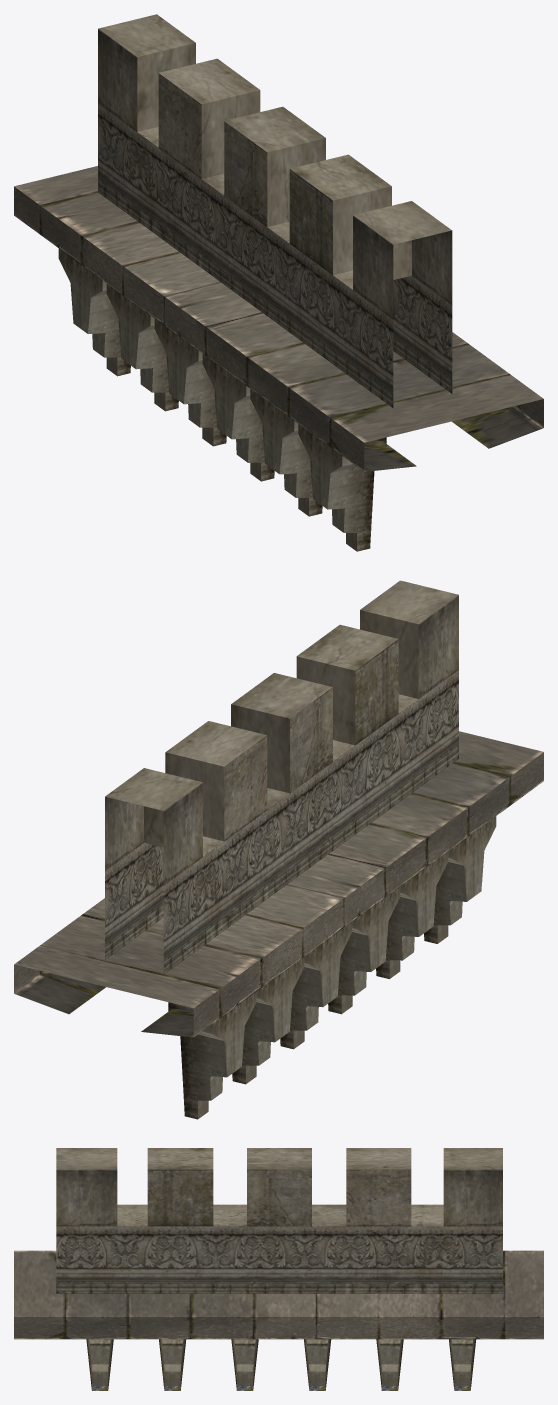
Rendered from SM_EN_2005_qiang0103.FBX.
3 renders of one model, top to bottom at view 1: azimuth 30°, elevation 25°; view 2: azimuth 150°, elevation 25°; view 3: azimuth 270°, elevation 25°, orthographic. The views are drawn at different scales.
Visible parts, largest first — view 1: SM_EN_2005_qiang0103; view 2: SM_EN_2005_qiang0103; view 3: SM_EN_2005_qiang0103.
Boxes of the visible parts, box(x1,y1,x2,y2) form: SM_EN_2005_qiang0103: box(14, 14, 543, 551); SM_EN_2005_qiang0103: box(14, 580, 543, 1119); SM_EN_2005_qiang0103: box(14, 1148, 543, 1390).
Bounding box in the file's own units: 70.85 × 121 × 239.
